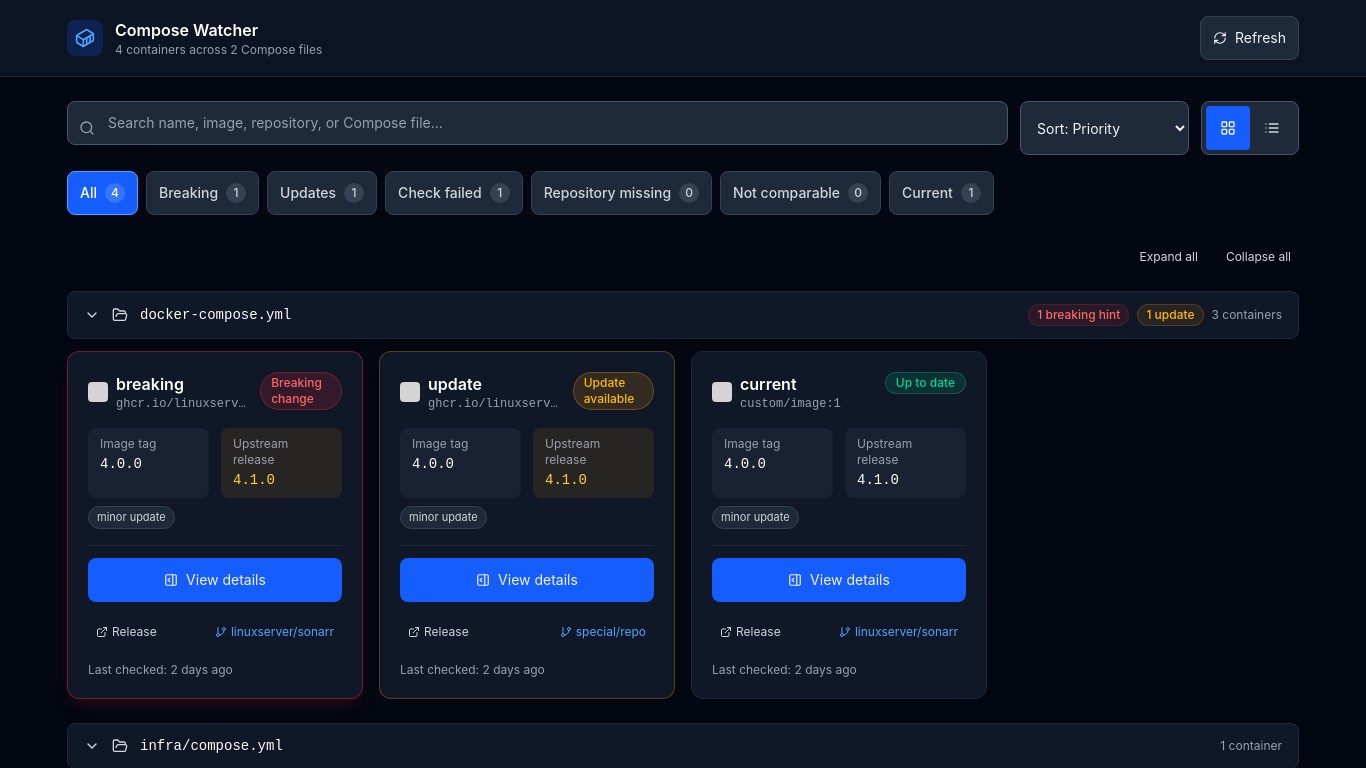
it: v3 dashboard › filters the action views and searches all requested summary fields
Click the button "Check failed 1": click(454, 193) [385,171,523,215]
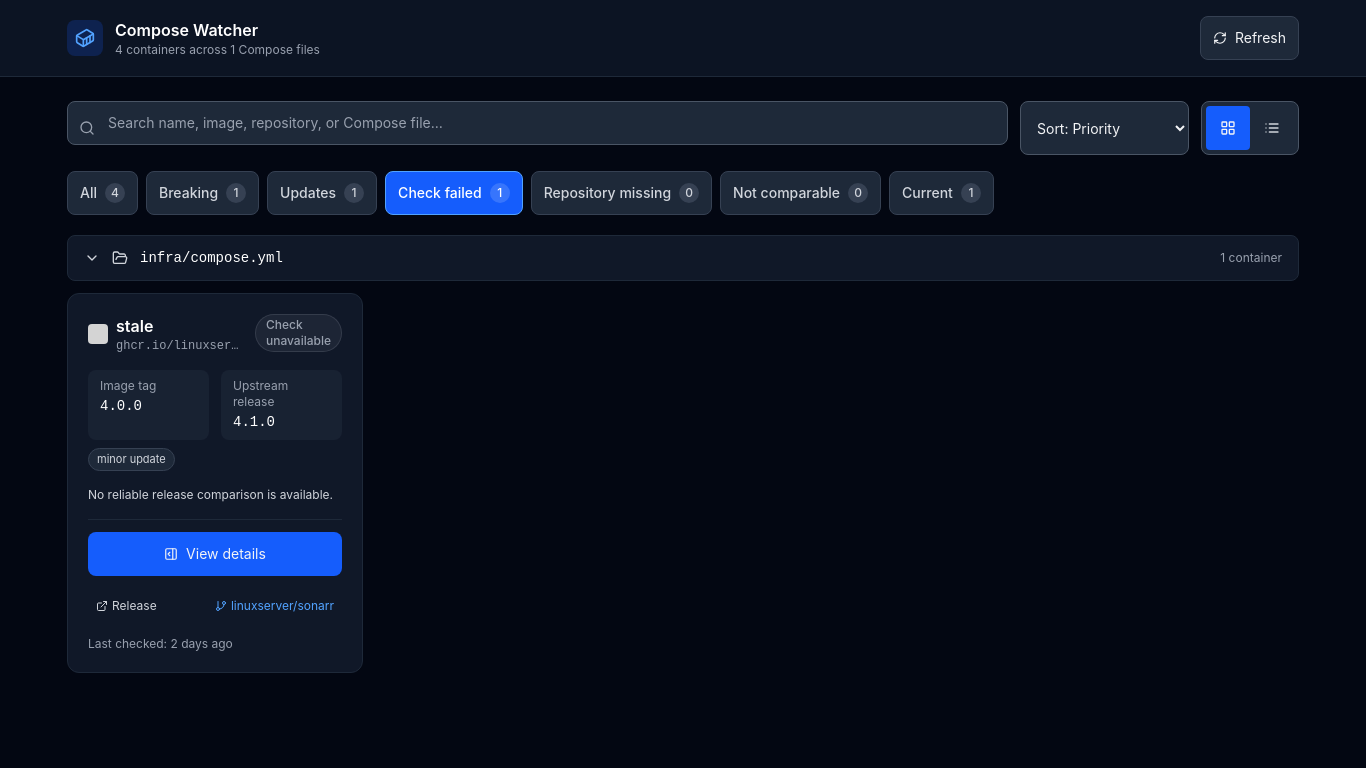
expect the text "stale" is shown: met, box [116,316,153,336]
expect the text "current" is not shown: met
Click the button "All 4": click(102, 193) [67,171,138,215]
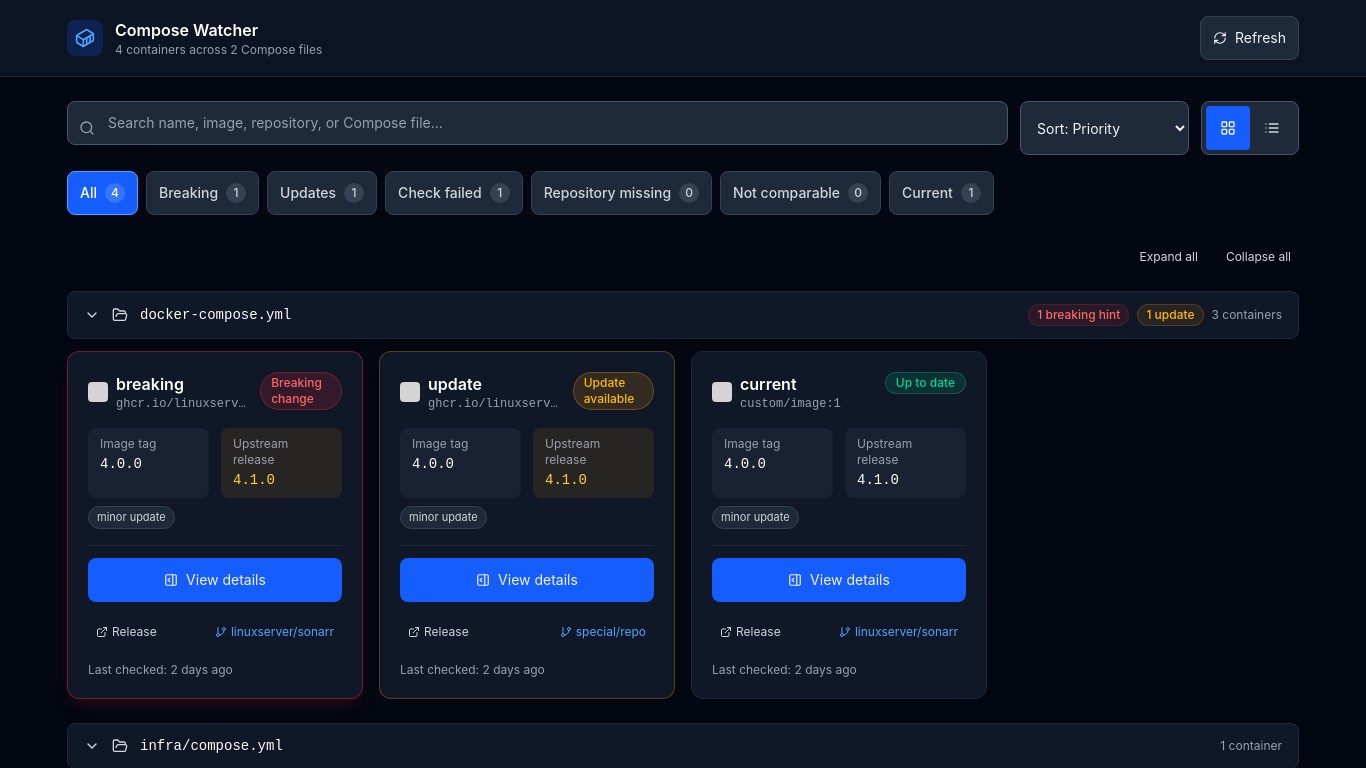
In the search field with id "container-search": (538, 123) [67,101,1008,145], type "special/repo"
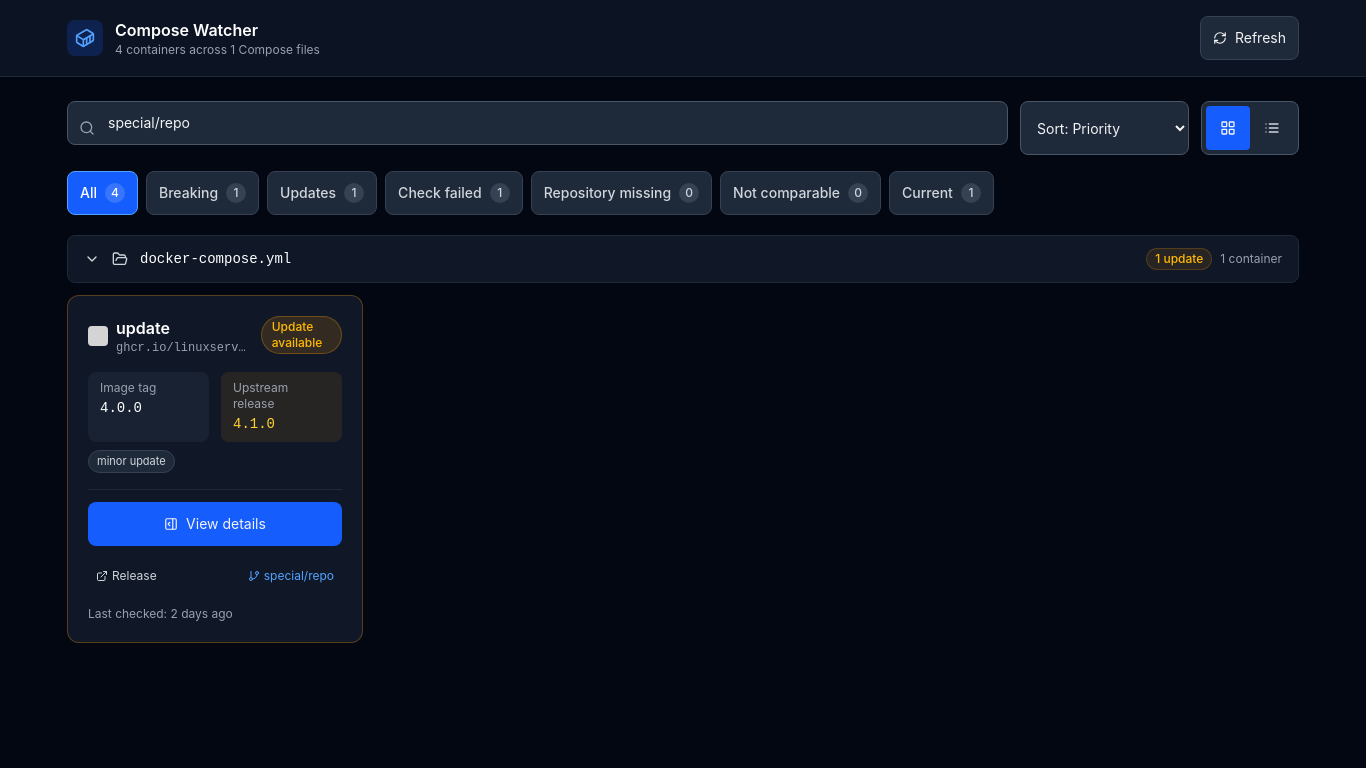
expect the text "Update" is shown: met, box [267,171,377,215]
expect the text "breaking" is not shown: met
Replace the text in the search field with id "container-search" with "infra/compose": (538, 123) [67,101,1008,145]
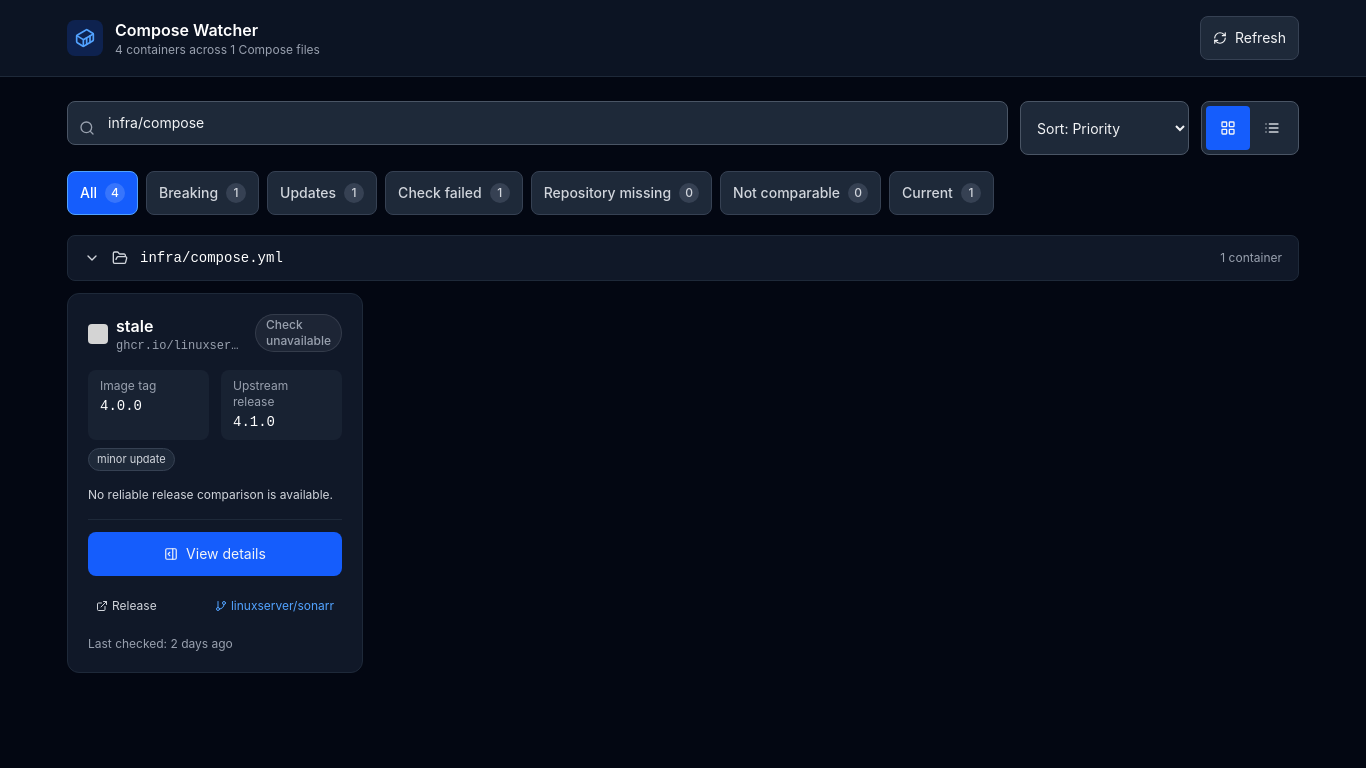
expect the text "stale" is shown: met, box [116,316,153,336]
